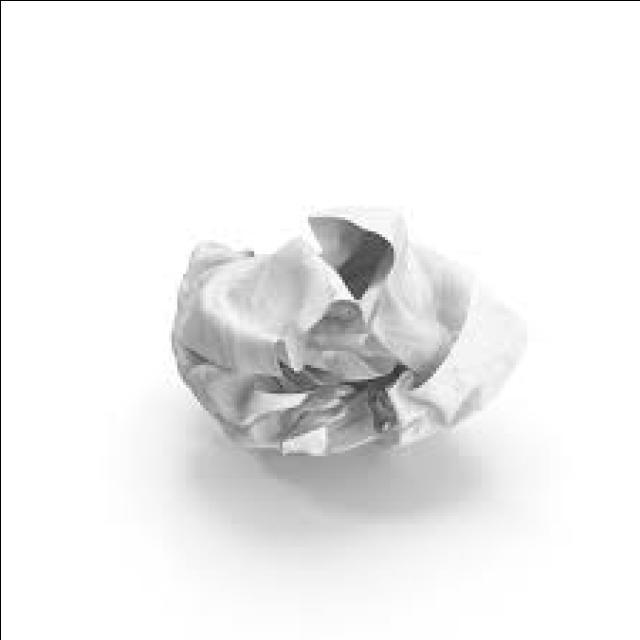crampled paper: (171, 209, 524, 454)
